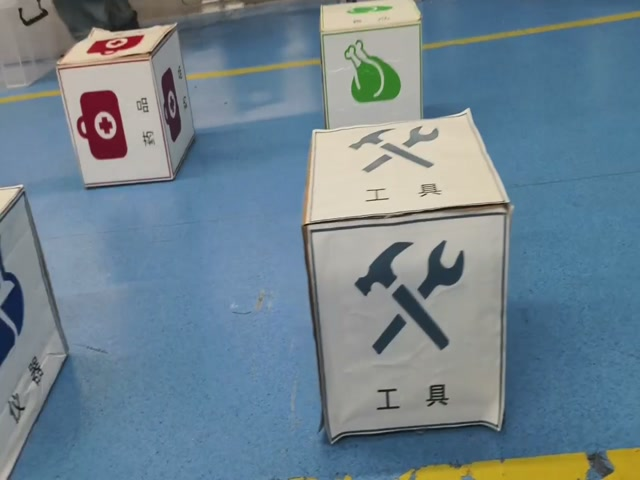Cube_food: (316, 0, 425, 33)
Cube_medicine: (60, 26, 173, 69)
Cube_tool: (303, 113, 513, 223)
